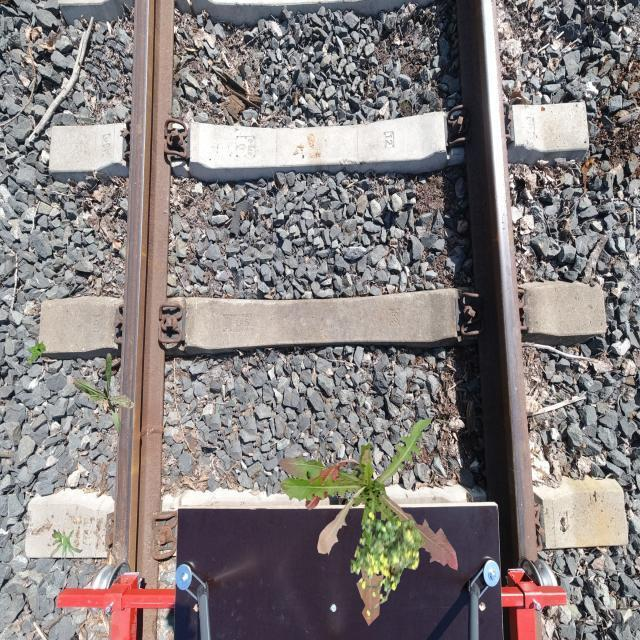Plant: (278, 418, 458, 626), (351, 512, 426, 617), (73, 353, 137, 437), (50, 529, 82, 564), (27, 340, 46, 364)
